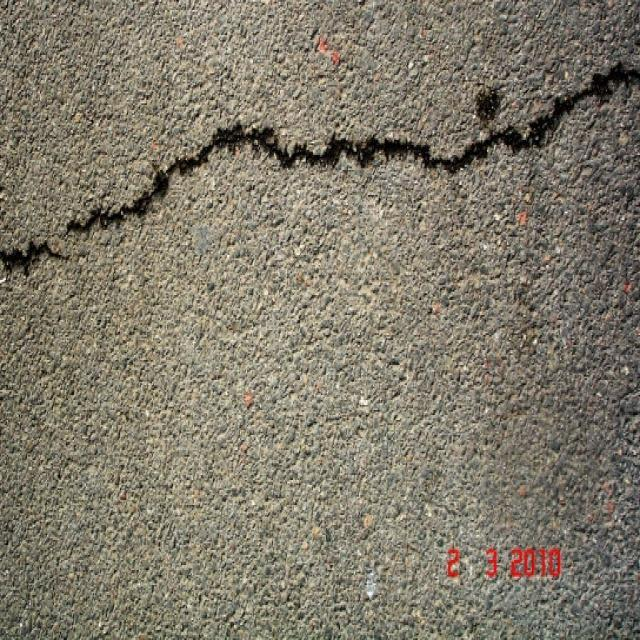Diagonal: (0, 121, 238, 281), (466, 57, 638, 183)
Transverse: (245, 122, 464, 184)
